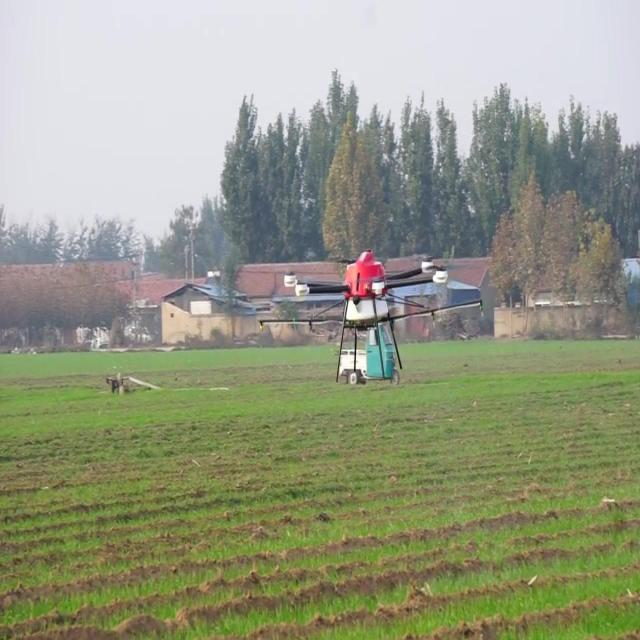drone: (258, 246, 483, 390)
